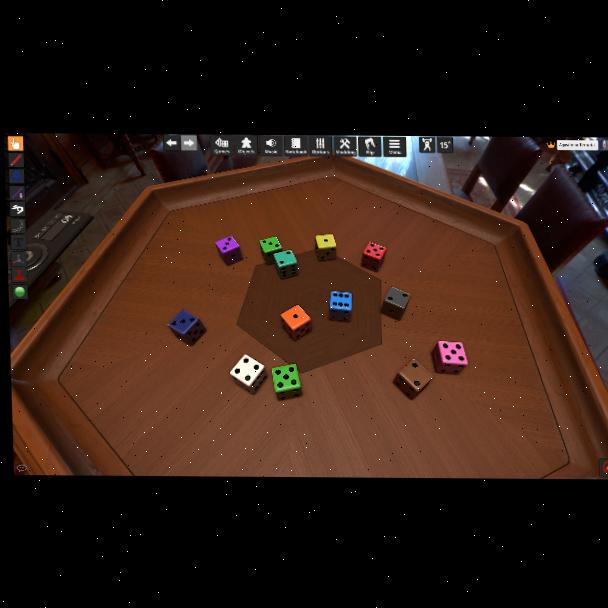d6: (392, 358, 430, 400), (229, 355, 267, 395), (168, 309, 206, 345), (431, 340, 466, 372), (280, 306, 311, 341), (272, 365, 302, 401), (380, 286, 410, 321), (215, 236, 242, 266), (328, 290, 352, 323), (360, 241, 385, 272), (272, 249, 297, 279), (258, 237, 283, 267), (314, 233, 337, 261)
